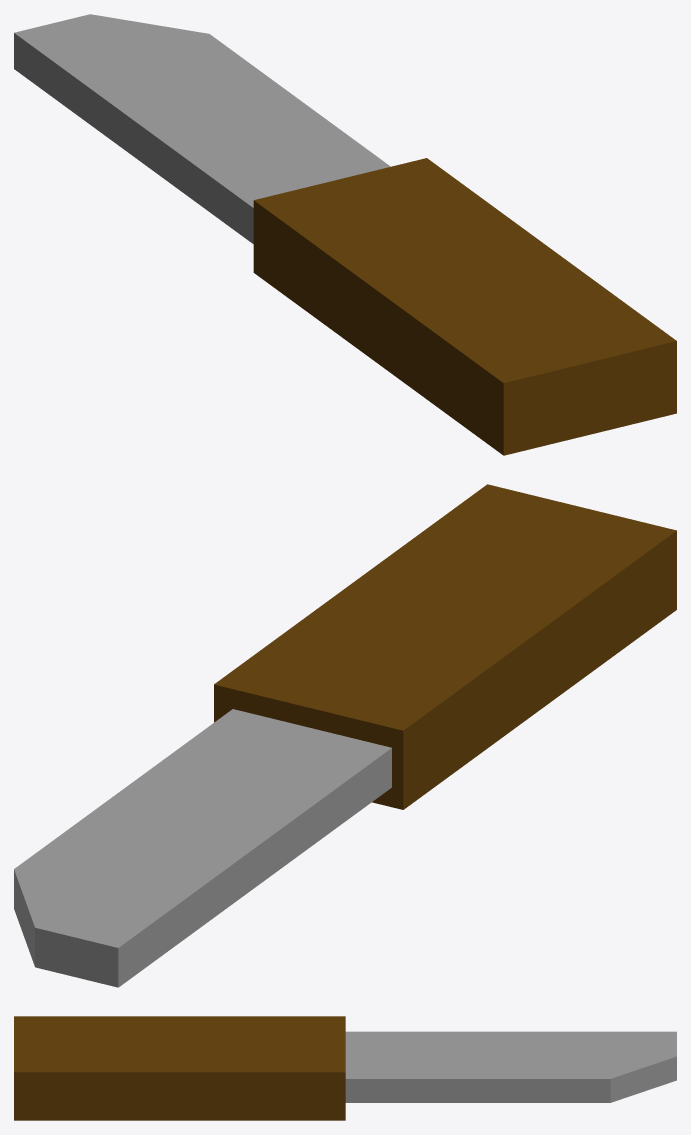
File: Knife.fbx
3 views of the same model, one above another, from view 1: azimuth 30°, elevation 25°; view 2: azimuth 150°, elevation 25°; view 3: azimuth 270°, elevation 25° (orthographic). The views are drawn at different scales.
Parts seen in each view (by area): view 1: Knife; view 2: Knife; view 3: Knife.
Boxes of the visible parts, left/top/right/bottom form: Knife: left=14, top=14, right=676, bottom=455; Knife: left=14, top=484, right=676, bottom=987; Knife: left=14, top=1016, right=676, bottom=1120.
Bounding box in the file's own units: 50 × 20 × 250.
